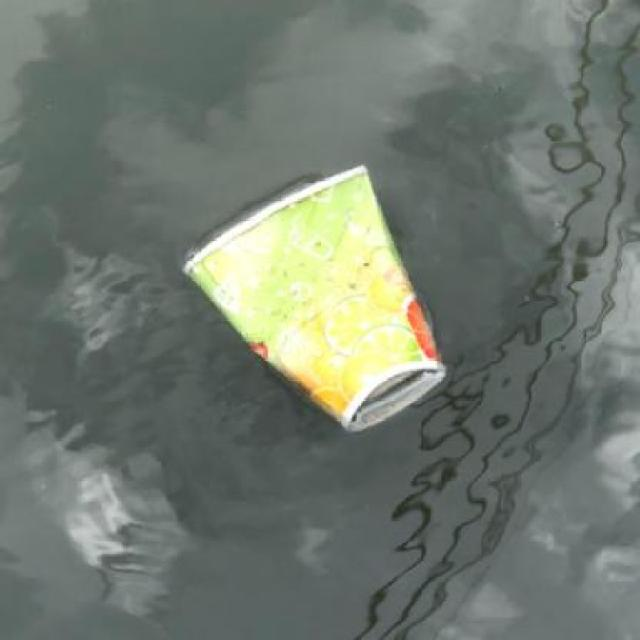Plastic cup: (176, 158, 454, 438)
